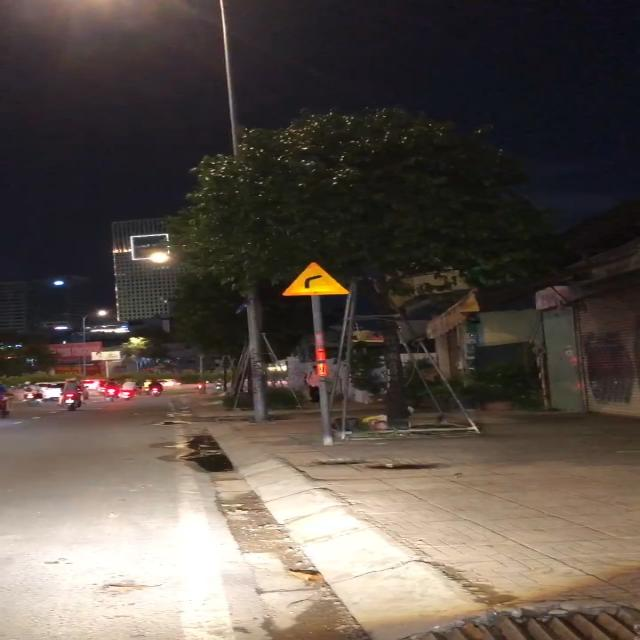Bien bao cho ngoat nguy hiem: (282, 260, 357, 298)
